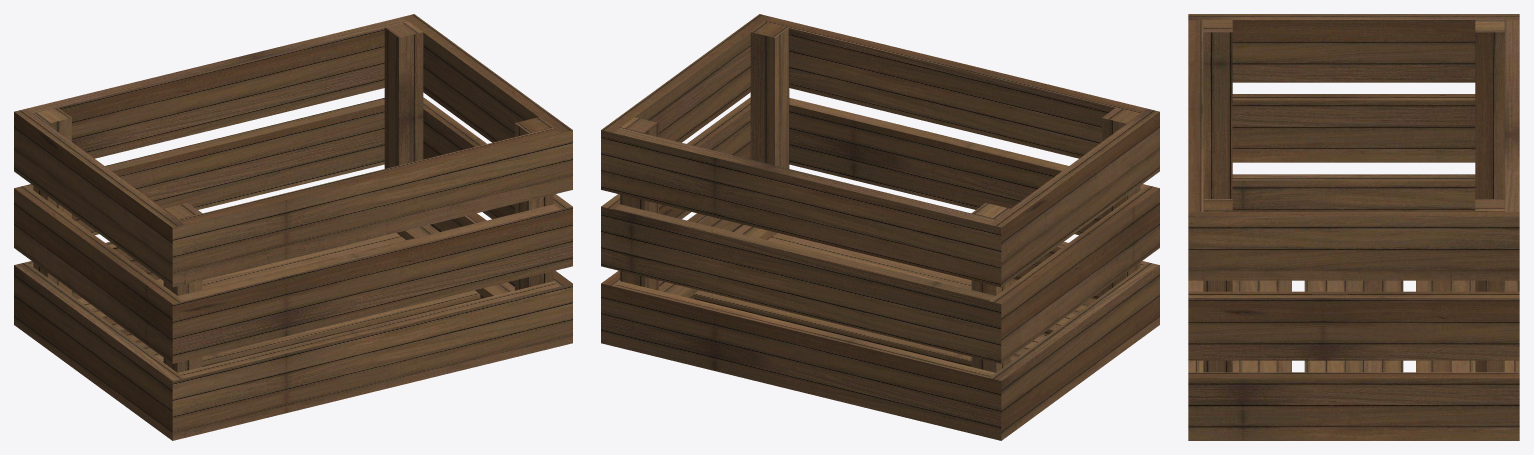
File: canasto.fbx
3 renders of one model, left to right at view 1: azimuth 30°, elevation 25°; view 2: azimuth 150°, elevation 25°; view 3: azimuth 270°, elevation 25°, orthographic. The views are drawn at different scales.
Visible parts, largest first — view 1: Куб.3; view 2: Куб.3; view 3: Куб.3.
Part boxes in pixels (bbox=[...]): Куб.3: bbox=[14, 14, 572, 440]; Куб.3: bbox=[601, 14, 1159, 440]; Куб.3: bbox=[1188, 14, 1519, 440].
Bounding box in the file's own units: 4900 × 2500 × 3360.
1 material, 1 textured.
